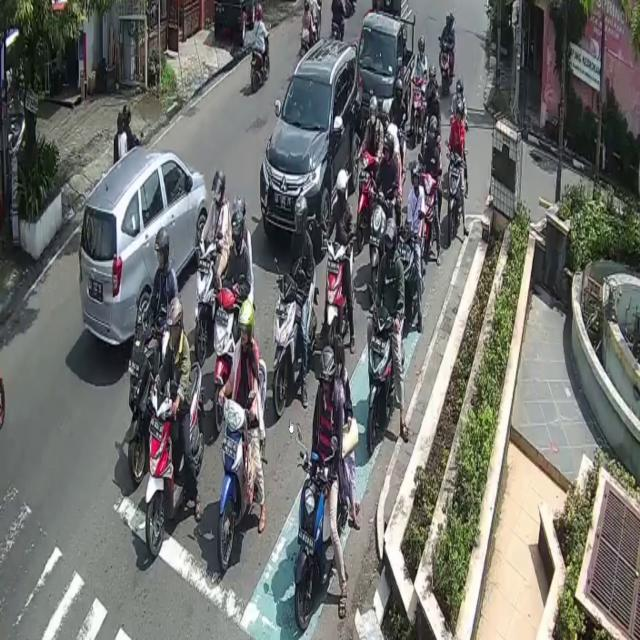bus: (147, 360, 203, 562), (220, 356, 268, 562), (272, 264, 316, 432), (293, 450, 331, 631), (128, 321, 162, 487), (365, 307, 394, 459), (194, 226, 216, 357), (327, 240, 352, 349), (446, 150, 466, 241), (440, 38, 452, 88)
motorcycle: (79, 148, 206, 353), (261, 38, 363, 250), (356, 11, 414, 138)
